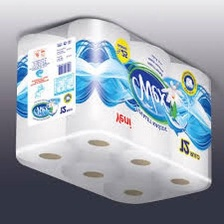tissue: (8, 11, 217, 210)
